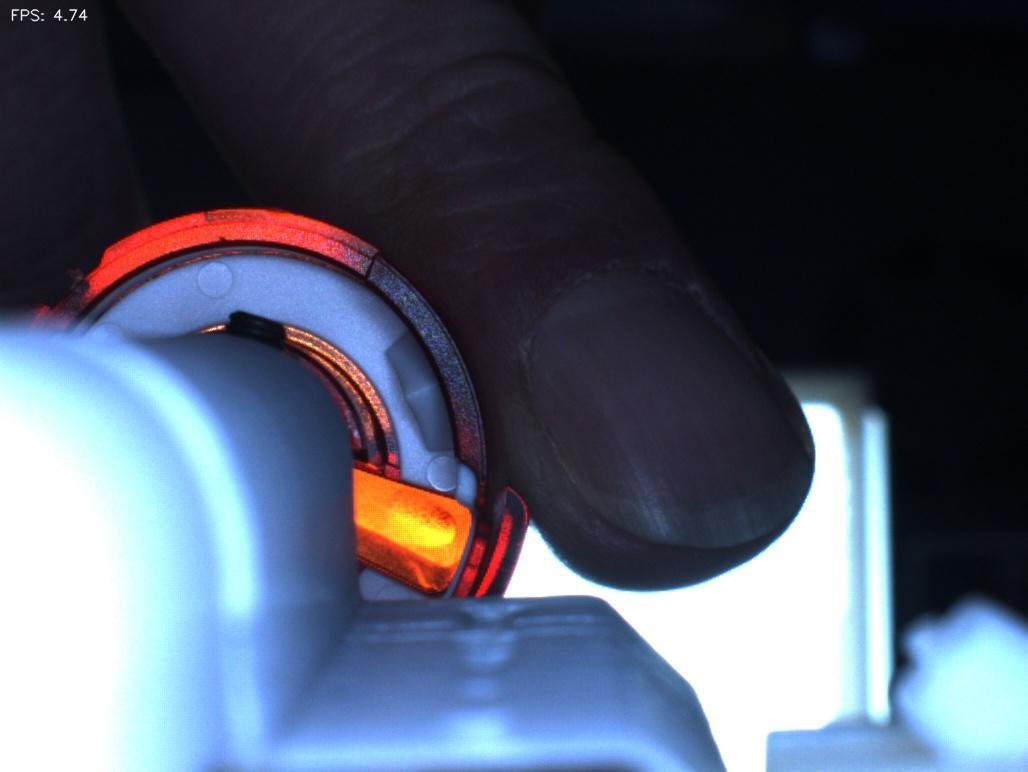Retassure: (357, 484, 460, 558)
